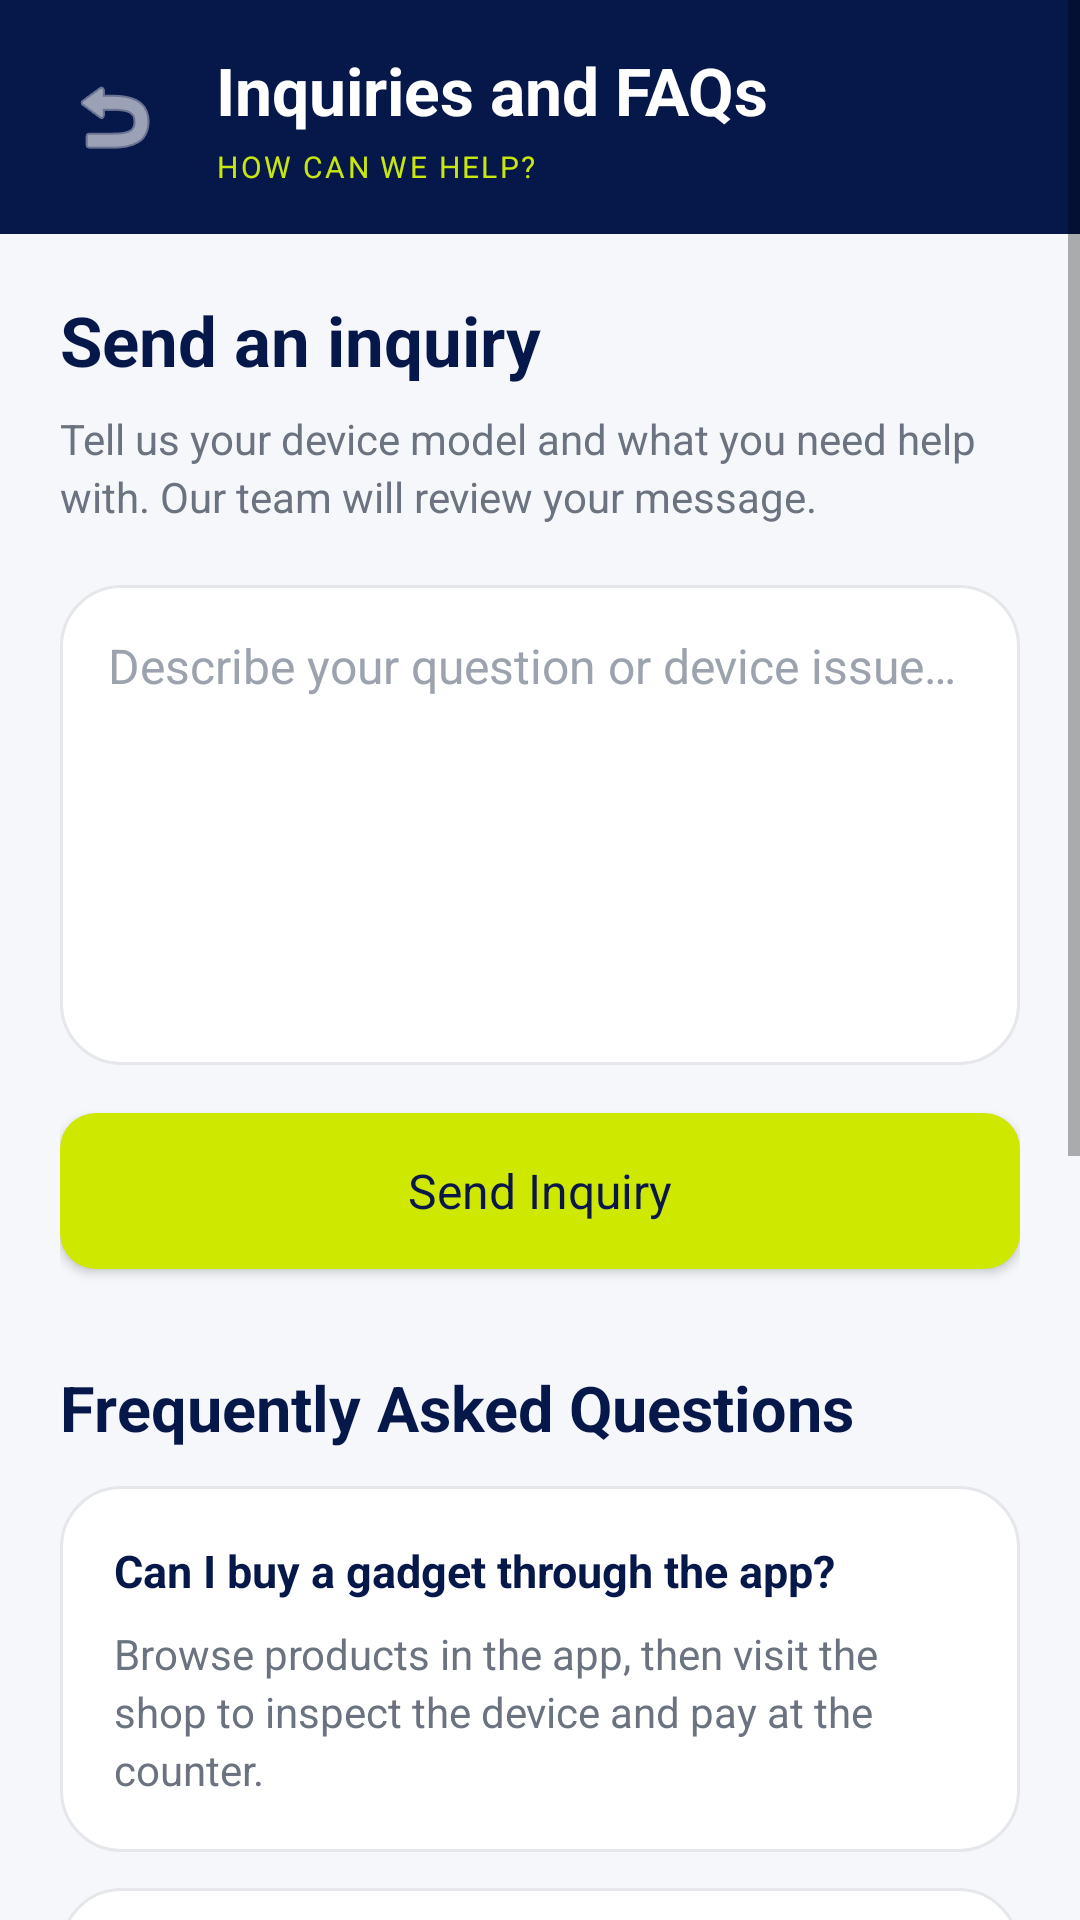

Named icons in this screenshot (1080 x 1920) and their centers, (x,y):
Back: (115,117)
